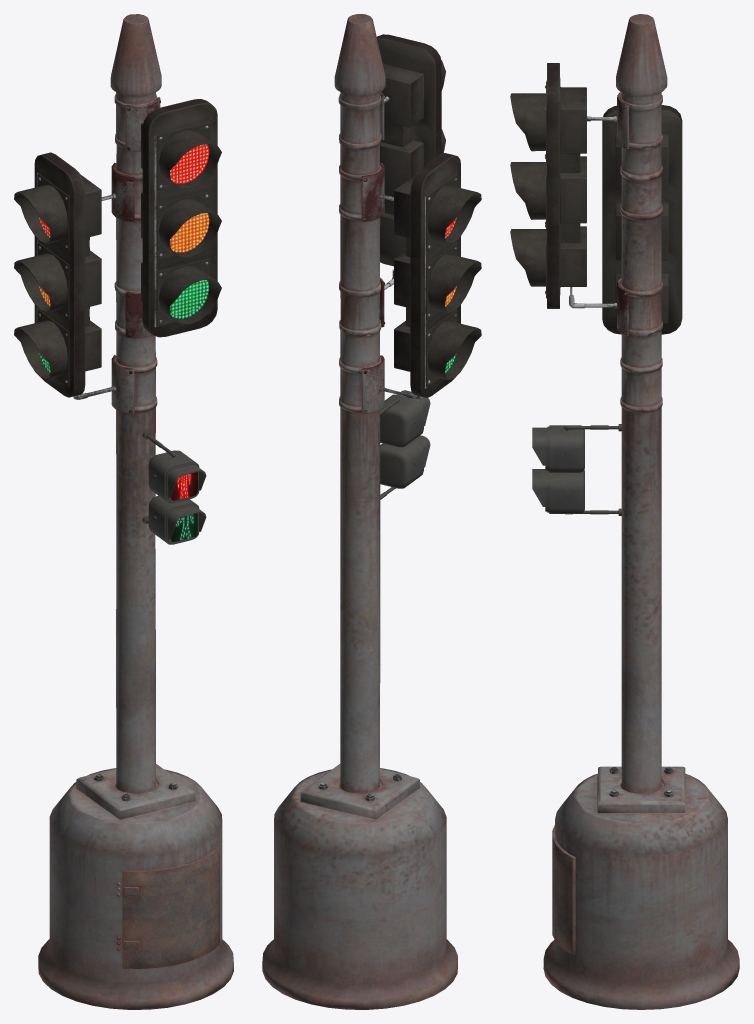
Rendered from traffic_light.glb.
The picture shows the model from 3 angles, left to right: view 1: azimuth 30°, elevation 25°; view 2: azimuth 150°, elevation 25°; view 3: azimuth 270°, elevation 25°; orthographic projection.
Visible parts, largest first — view 1: Cylinder_0, Sphere.021_13, Cube.001_8, Cube_3, Plane.010_15, Cylinder.004_14, Plane_2, Plane.006_12, Plane.005_11, Plane.004_9, Plane.003_7, Plane.002_6 (+2 smaller); view 2: Cylinder_0, Cube_3, Cube.001_8, Plane_2, Cylinder.004_14, Plane.004_9, Plane.006_12, Plane.005_11, little_things_4; view 3: Cylinder_0, Cube.001_8, Cube_3, Plane_2, Sphere.021_13, Plane.001_5, Plane.002_6, Plane.003_7, Cylinder.004_14.
Part boxes in pixels (x1,y1,x2,y2): Cylinder_0: [38, 14, 233, 1009]; Sphere.021_13: [116, 846, 219, 968]; Cube.001_8: [34, 152, 101, 397]; Cube_3: [141, 99, 217, 337]; Plane.010_15: [38, 144, 209, 542]; Cylinder.004_14: [111, 97, 160, 414]; Plane_2: [142, 431, 206, 544]; Plane.006_12: [14, 309, 69, 386]; Plane.005_11: [14, 242, 69, 320]; Plane.004_9: [14, 174, 69, 251]; Plane.003_7: [157, 258, 221, 326]; Plane.002_6: [157, 191, 221, 259]; Cylinder_0: [262, 14, 457, 1009]; Cube_3: [377, 34, 441, 266]; Cube.001_8: [394, 153, 460, 397]; Plane_2: [380, 390, 430, 499]; Cylinder.004_14: [361, 92, 384, 414]; Plane.004_9: [426, 174, 481, 251]; Plane.006_12: [426, 310, 481, 387]; Plane.005_11: [426, 243, 481, 320]; little_things_4: [379, 96, 426, 400]; Cylinder_0: [543, 14, 739, 1009]; Cube.001_8: [602, 105, 682, 334]; Cube_3: [547, 63, 586, 308]; Plane_2: [532, 424, 621, 515]; Sphere.021_13: [552, 825, 575, 954]; Plane.001_5: [510, 81, 546, 162]; Plane.002_6: [510, 162, 546, 231]; Plane.003_7: [510, 229, 546, 298]; Cylinder.004_14: [617, 92, 629, 336].
Bounding box in the file's own units: 2.33 × 10.67 × 2.34.
10 materials, 10 textured.
